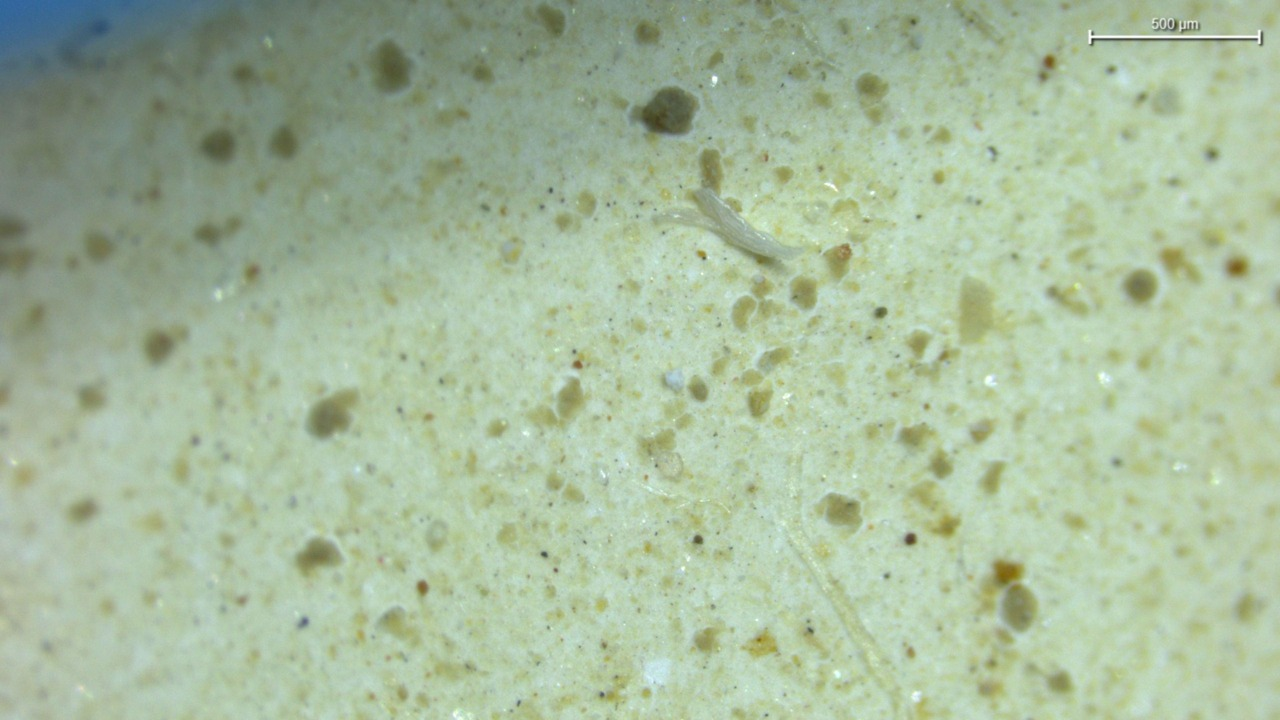microplastic_fragment: (659, 186, 805, 259), (664, 369, 684, 392)
